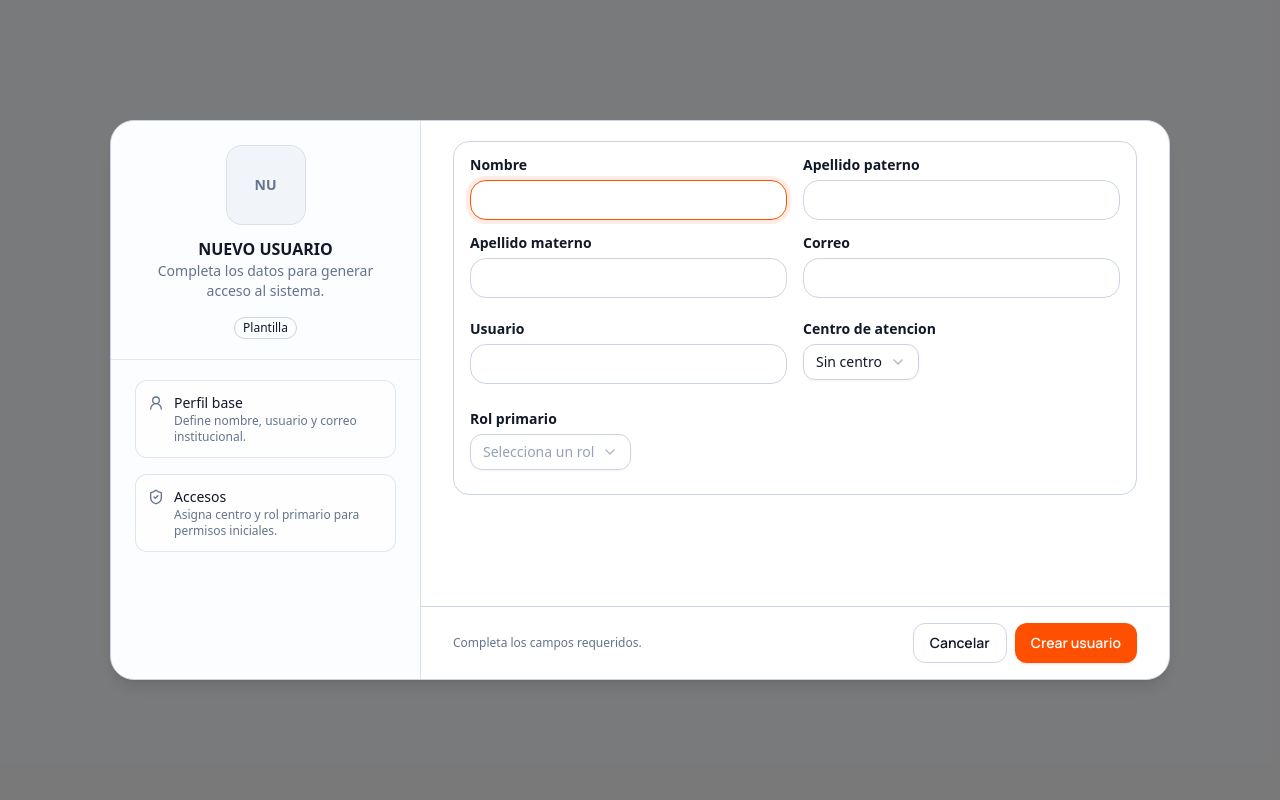
UserCreateDialog UI › shows validation errors on empty submit
The image size is (1280, 800).
Click the button "Crear usuario": (1076, 643) top-left (1015, 623), bottom-right (1137, 663)
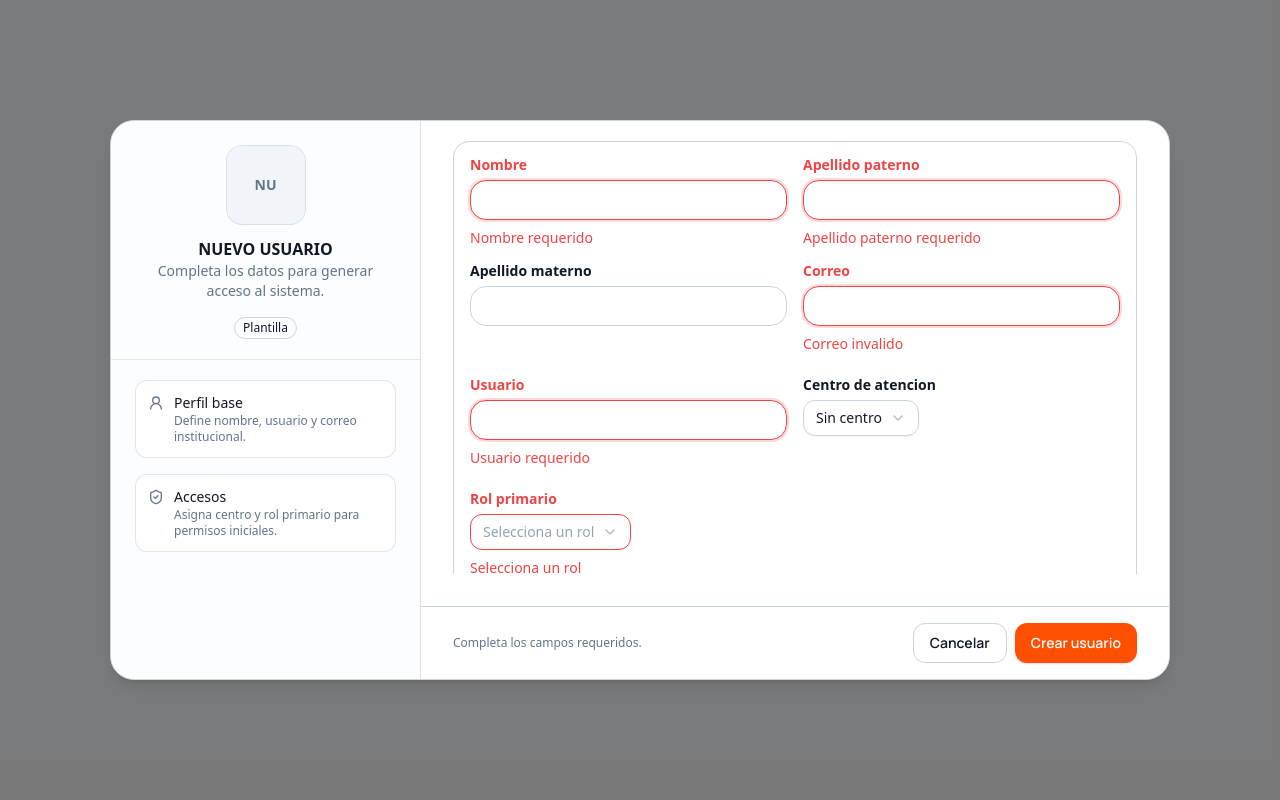
Now the text "Nombre requerido" is shown, box top-left (470, 228), bottom-right (593, 247)
Now the text "Apellido paterno requerido" is shown, box top-left (803, 228), bottom-right (981, 247)
Now the text "Usuario requerido" is shown, box top-left (470, 448), bottom-right (590, 467)
